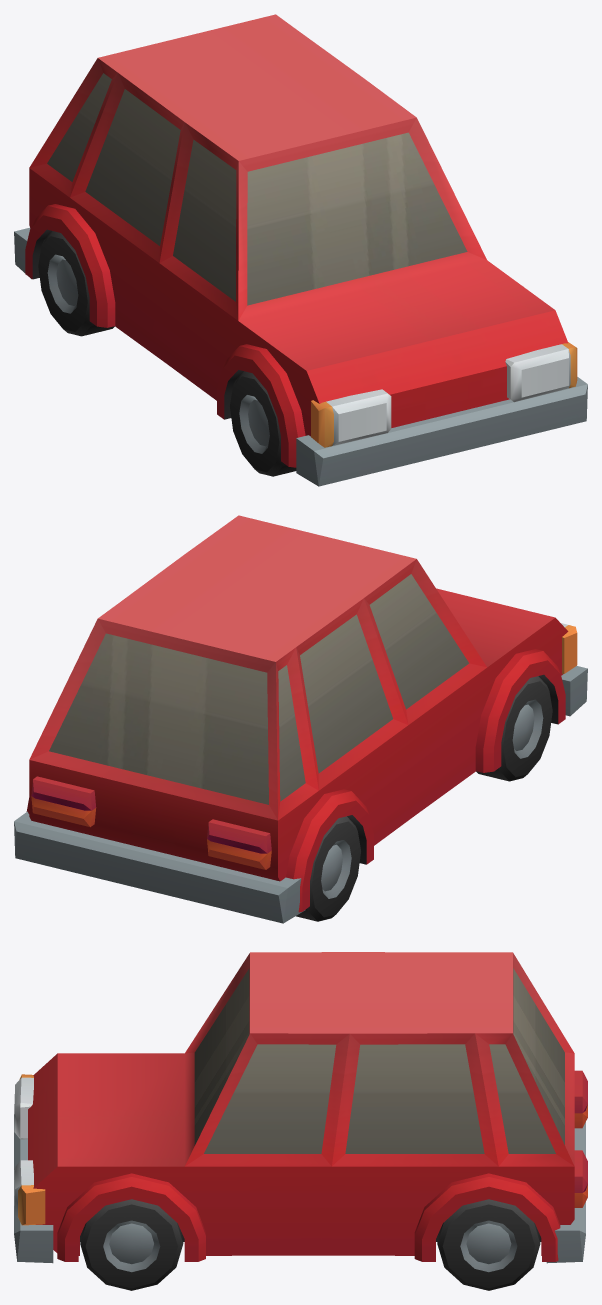
The model's file is Car Hatchback.glb.
The picture shows the model from 3 angles, top to bottom: view 1: azimuth 30°, elevation 25°; view 2: azimuth 150°, elevation 25°; view 3: azimuth 270°, elevation 25°; orthographic projection. The views are drawn at different scales.
Visible parts, largest first — view 1: car_hatchback, car_hatchback_wheel_rear_right, car_hatchback_wheel_front_right; view 2: car_hatchback, car_hatchback_wheel_front_right, car_hatchback_wheel_rear_right; view 3: car_hatchback, car_hatchback_wheel_front_left, car_hatchback_wheel_rear_left.
Boxes of the visible parts, box(x1,y1,x2,y2) form: car_hatchback: box(14, 14, 587, 486); car_hatchback_wheel_rear_right: box(38, 231, 114, 336); car_hatchback_wheel_front_right: box(230, 371, 296, 476); car_hatchback: box(14, 515, 587, 923); car_hatchback_wheel_front_right: box(476, 676, 552, 781); car_hatchback_wheel_rear_right: box(296, 816, 360, 921); car_hatchback: box(14, 952, 587, 1263); car_hatchback_wheel_front_left: box(80, 1199, 183, 1290); car_hatchback_wheel_rear_left: box(437, 1199, 540, 1290).
Bounding box in the file's own units: 0.419 × 0.3688 × 0.8061.
Materials: 1 (1 with a texture image).
